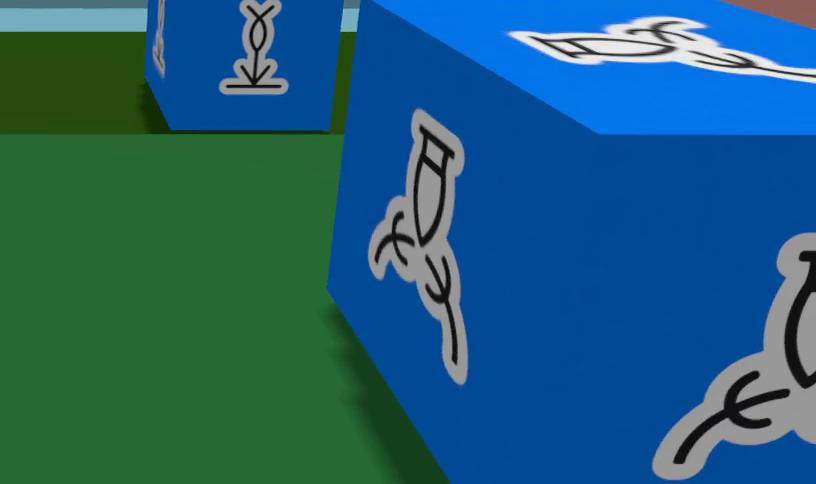KFS_REAL: (328, 0, 815, 483), (652, 232, 815, 480), (368, 109, 467, 384), (143, 0, 344, 130), (510, 17, 815, 83), (218, 0, 287, 95)
